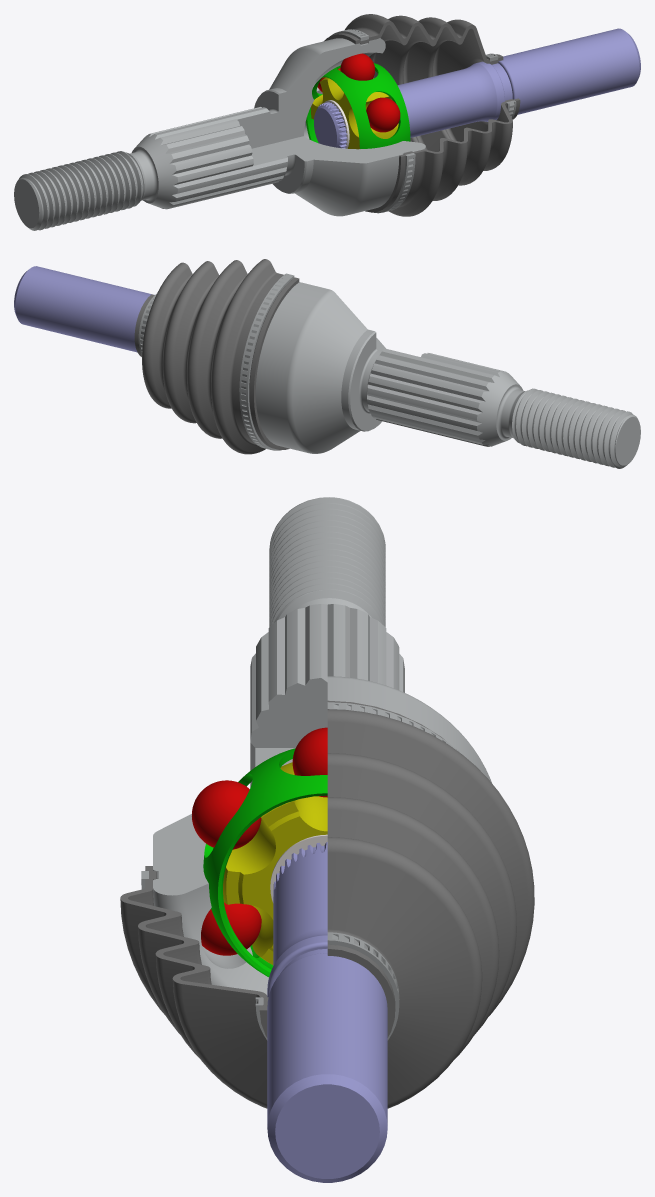
The model's file is rzeppa-joint.glb.
The picture shows the model from 3 angles, top to bottom: view 1: azimuth 30°, elevation 25°; view 2: azimuth 150°, elevation 25°; view 3: azimuth 270°, elevation 25°; orthographic projection. The views are drawn at different scales.
Visible parts, largest first — view 1: Output_shaft1-1, Input_shaft1-1, Gasket-1, Ball_cage1-1, Corsa interna1-1, Ball1-6, Ring1-1, Ball1-1; view 2: Output_shaft1-1, Gasket-1, Input_shaft1-1, Ring1-1, Ring2-1; view 3: Gasket-1, Output_shaft1-1, Input_shaft1-1, Corsa interna1-1, Ball_cage1-1, Ball1-6, Ball1-5, Ball1-1, Ring2-1.
Boxes of the visible parts, x1,y1,x2,y2 form: Output_shaft1-1: [14, 38, 425, 230]; Input_shaft1-1: [314, 28, 640, 148]; Gasket-1: [324, 14, 520, 216]; Ball_cage1-1: [306, 63, 410, 148]; Corsa interna1-1: [311, 70, 398, 149]; Ball1-6: [366, 97, 400, 132]; Ring1-1: [329, 29, 415, 213]; Ball1-1: [340, 53, 375, 80]; Output_shaft1-1: [255, 282, 640, 468]; Gasket-1: [134, 259, 299, 454]; Input_shaft1-1: [14, 266, 154, 352]; Ring1-1: [239, 273, 294, 450]; Ring2-1: [138, 293, 156, 355]; Gasket-1: [120, 700, 534, 1108]; Output_shaft1-1: [153, 497, 491, 995]; Input_shaft1-1: [267, 842, 387, 1182]; Corsa interna1-1: [223, 762, 327, 964]; Ball_cage1-1: [203, 748, 327, 977]; Ball1-6: [192, 780, 261, 849]; Ball1-5: [201, 902, 261, 955]; Ball1-1: [292, 727, 327, 797]; Ring2-1: [255, 932, 399, 1040].
Size of the model in its own units: 0.3579 by 0.1067 by 0.1067.
